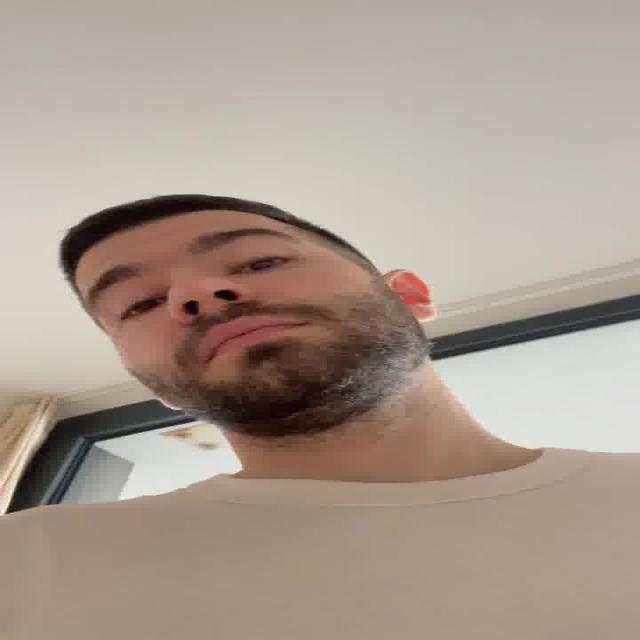earlobe: (403, 303, 435, 322), (152, 396, 187, 413)
eye: (230, 253, 300, 276), (111, 295, 167, 323)
nose: (169, 301, 266, 320)
wholeear: (384, 269, 435, 321)
